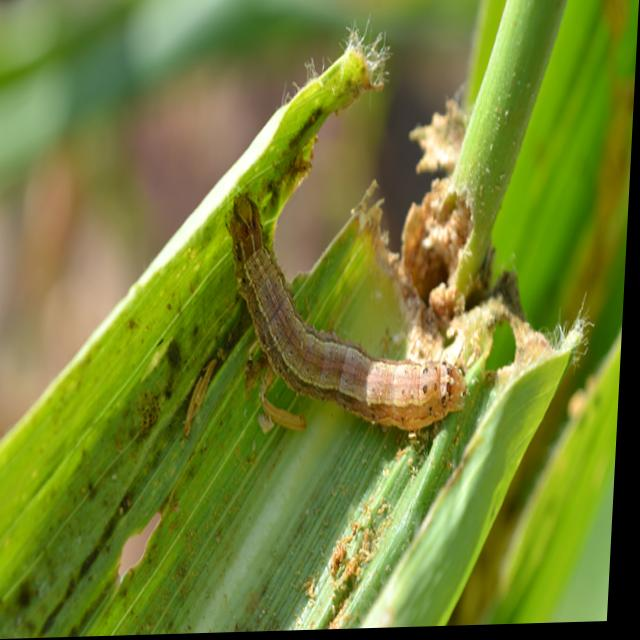Fall-Armyworm: (213, 172, 490, 457)
